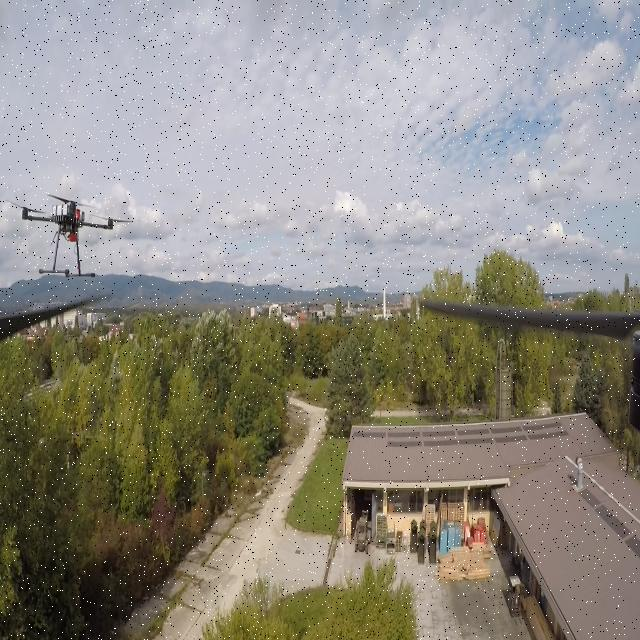UAV: (13, 183, 130, 277)
